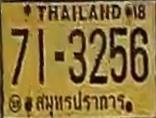1: (37, 28, 45, 84)
2: (88, 28, 108, 85)
3: (67, 28, 86, 82)
5: (109, 26, 128, 84)
6: (129, 26, 147, 81)
7: (10, 28, 29, 84)
SPK: (30, 88, 126, 116)
